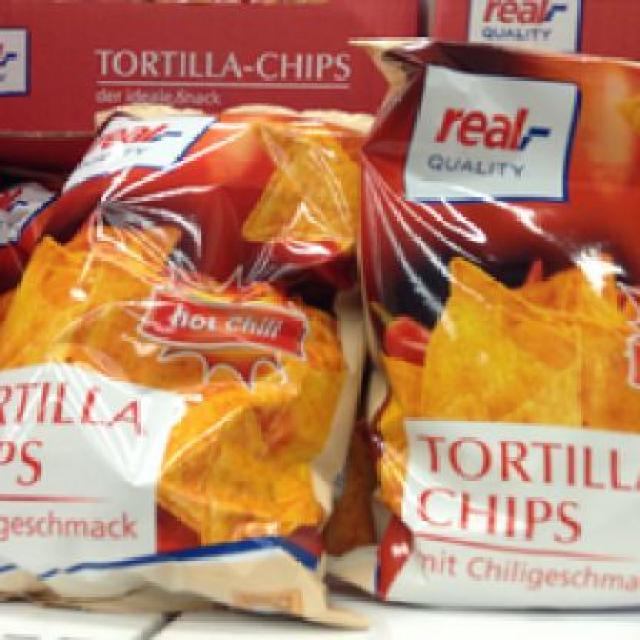Chips: (0, 97, 386, 592), (348, 31, 638, 598)
